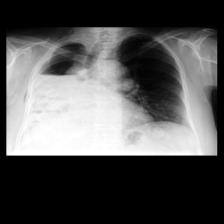tuberculosis: (27, 31, 194, 156)
